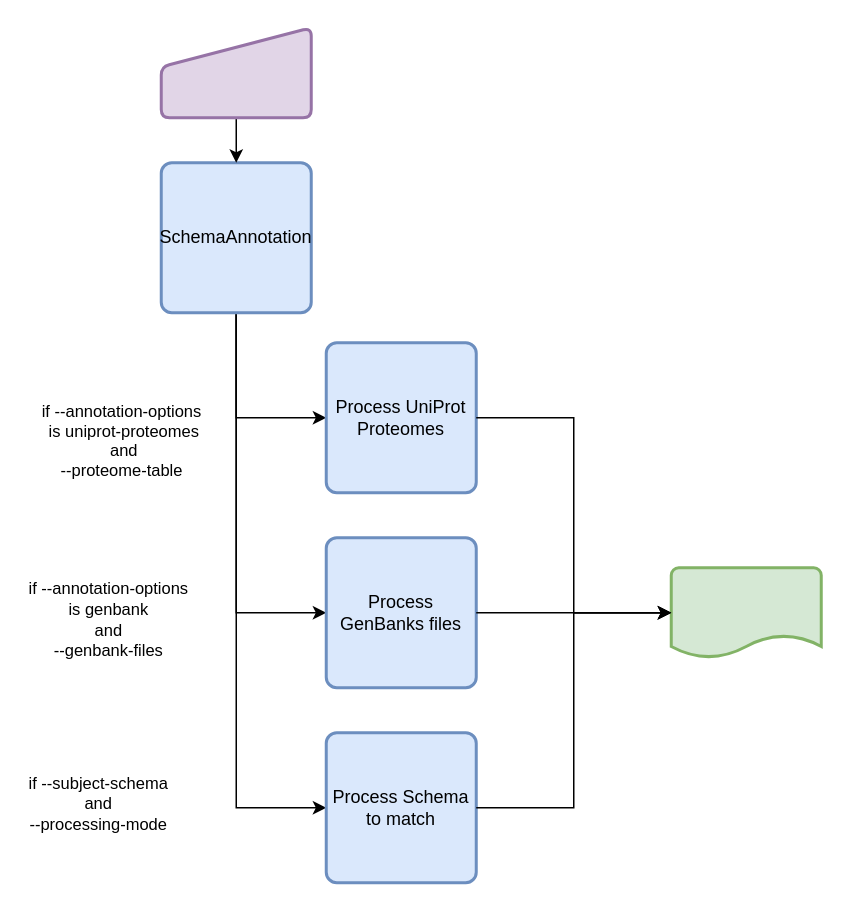
This 848x909 diagram has some shape labels left out. The centre of each missing label's shape, as x and y in pixels:
"args" goes at point (235, 72).
"merged_file.tsv" goes at point (745, 612).
